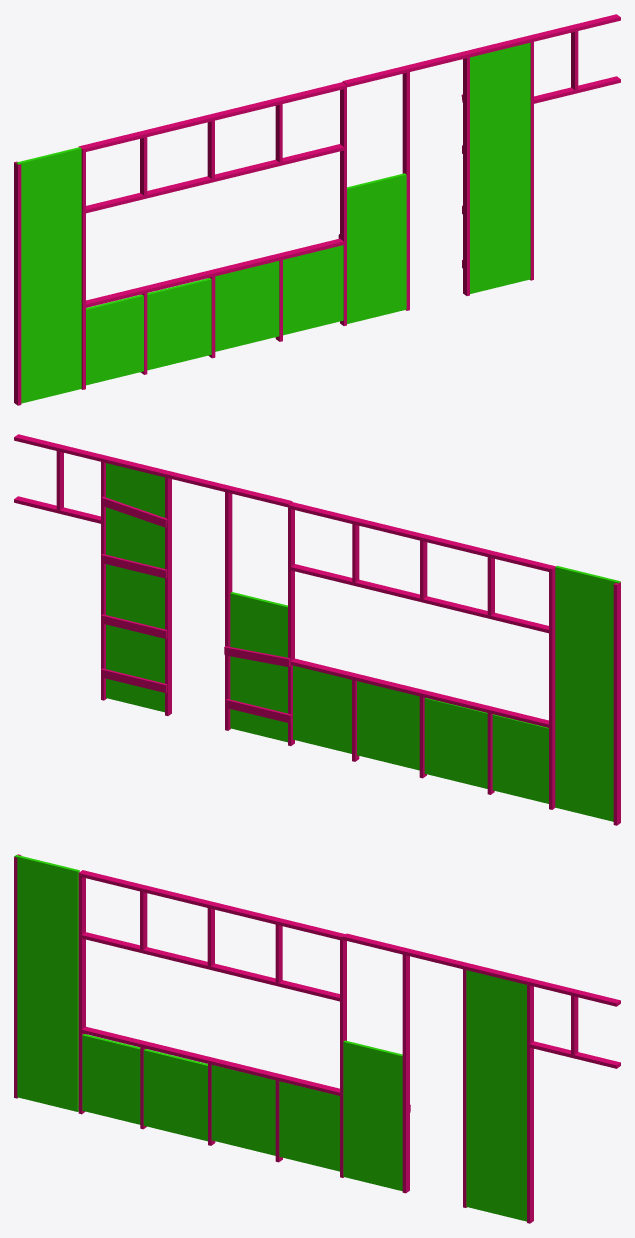
The model's file is BH05B_Wall_02_Break_B.fbx.
The picture shows the model from 3 angles, top to bottom: view 1: azimuth 30°, elevation 25°; view 2: azimuth 150°, elevation 25°; view 3: azimuth 330°, elevation 25°; orthographic projection.
Visible parts, largest first — view 1: BH05B_Wall_02_Break_B; view 2: BH05B_Wall_02_Break_B; view 3: BH05B_Wall_02_Break_B.
Part boxes in pixels (x1=…): BH05B_Wall_02_Break_B: x1=14, y1=14, x2=620, y2=405; BH05B_Wall_02_Break_B: x1=14, y1=434, x2=620, y2=825; BH05B_Wall_02_Break_B: x1=14, y1=854, x2=620, y2=1223.
Bounding box in the file's own units: 787 × 301 × 12.91.
